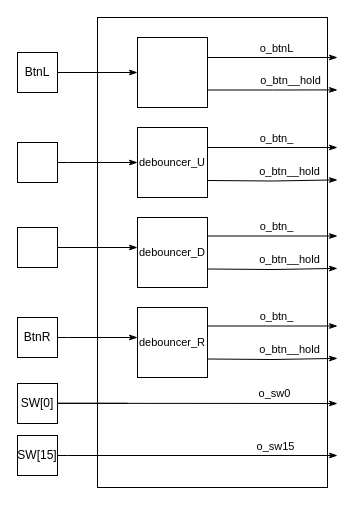
This 363x505 diagram has some shape labels left out. The centre of each missing label's shape, as x and y in pixels:
"BtnD" goes at point (37, 247).
"BtnU" goes at point (37, 162).
"debouncer_L" goes at point (172, 72).
